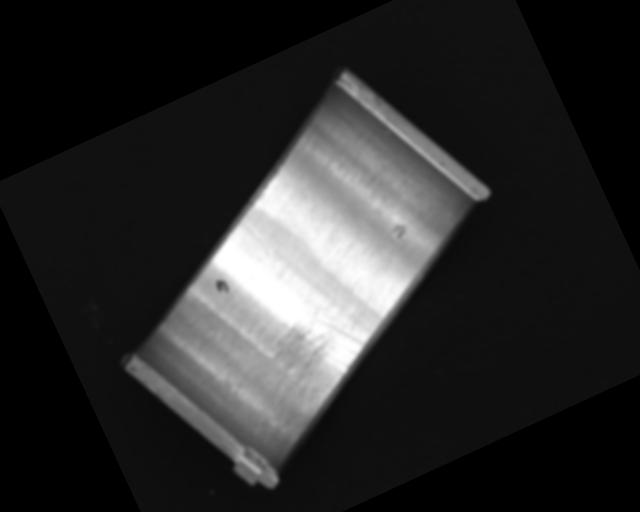blot: (212, 275, 230, 297)
bruise: (389, 221, 411, 245)
nick: (244, 214, 275, 260)
scratch: (247, 294, 388, 440)
